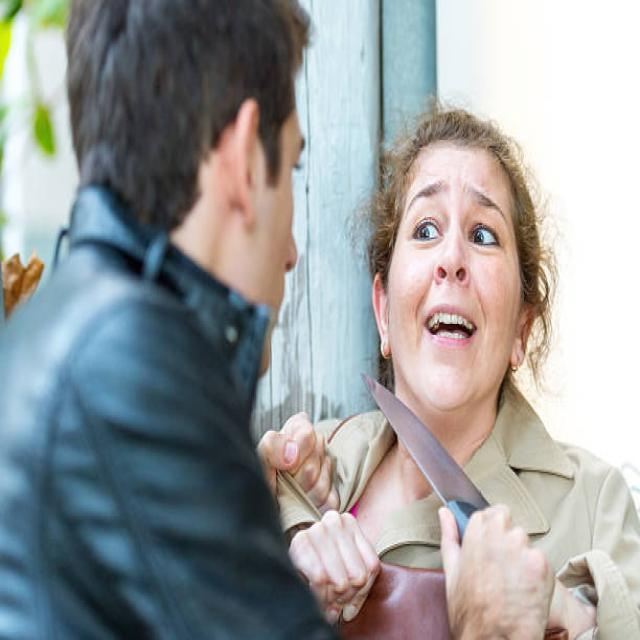faca: (364, 376, 488, 539)
